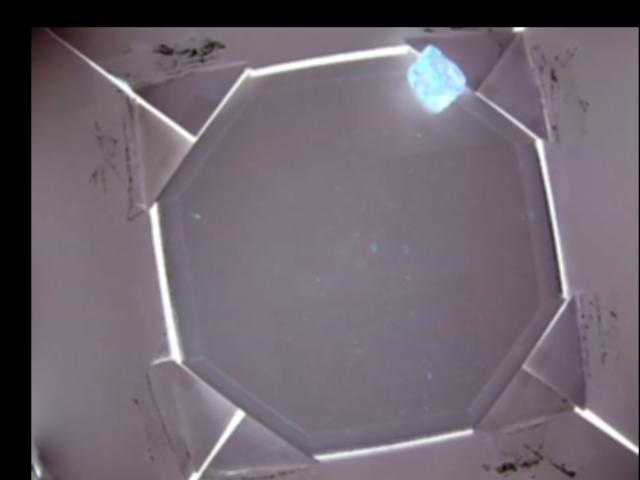Brisk: (406, 44, 467, 111)
